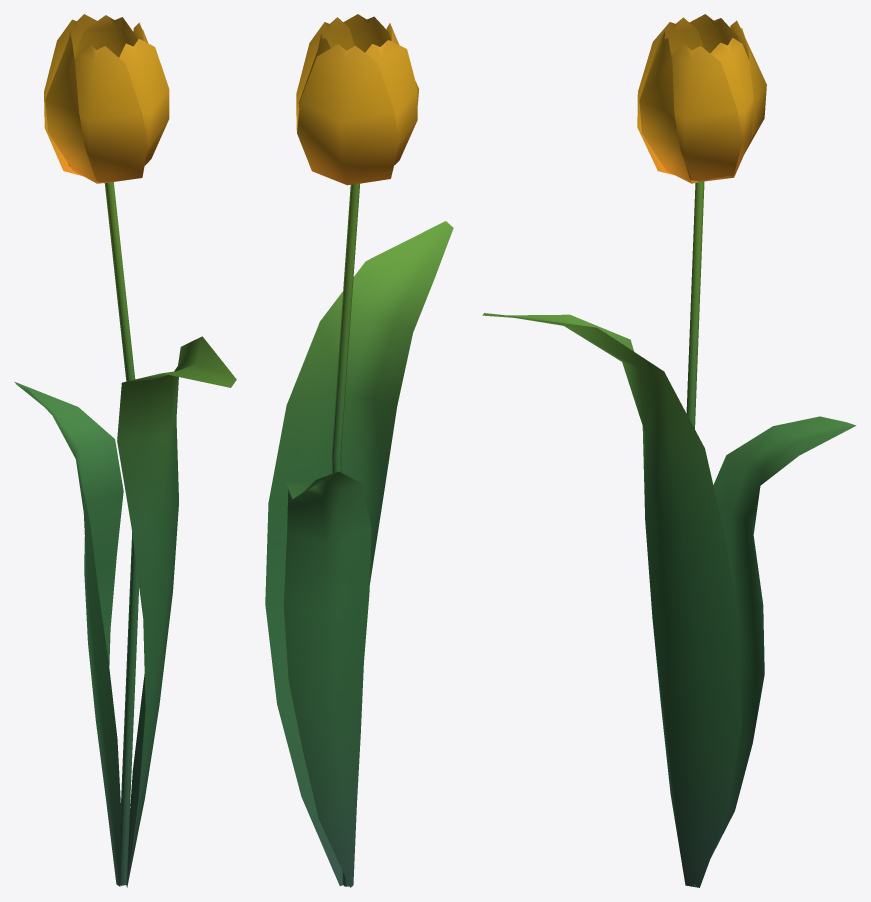
Rendered from flower14.glb.
3 renders of one model, left to right at view 1: azimuth 30°, elevation 25°; view 2: azimuth 150°, elevation 25°; view 3: azimuth 270°, elevation 25°, orthographic.
Visible parts, largest first — view 1: Flower.020; view 2: Flower.020; view 3: Flower.020.
Boxes of the visible parts, bbox=[...] form: Flower.020: bbox=[14, 14, 236, 887]; Flower.020: bbox=[265, 14, 453, 887]; Flower.020: bbox=[482, 14, 856, 887].
Bounding box in the file's own units: 0.353 × 2.27 × 0.9054.
1 material, 1 textured.
